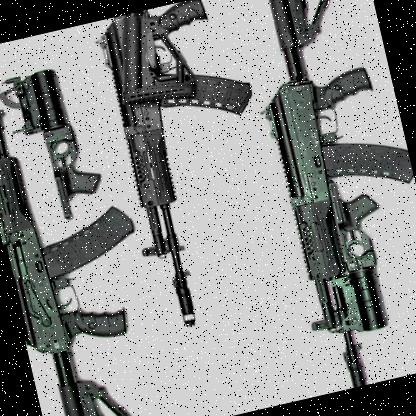rifle: (94, 0, 315, 338), (0, 26, 186, 416), (237, 0, 416, 393)
